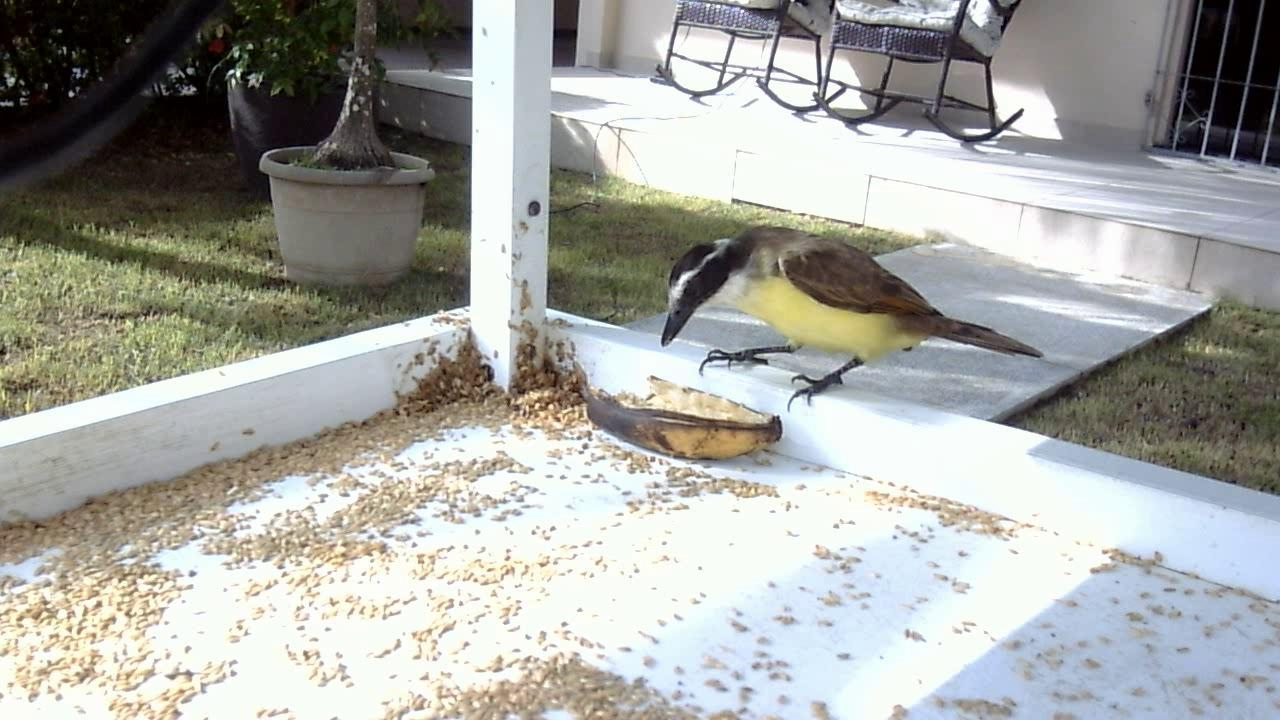bem_te_vi: (641, 200, 1054, 433)
